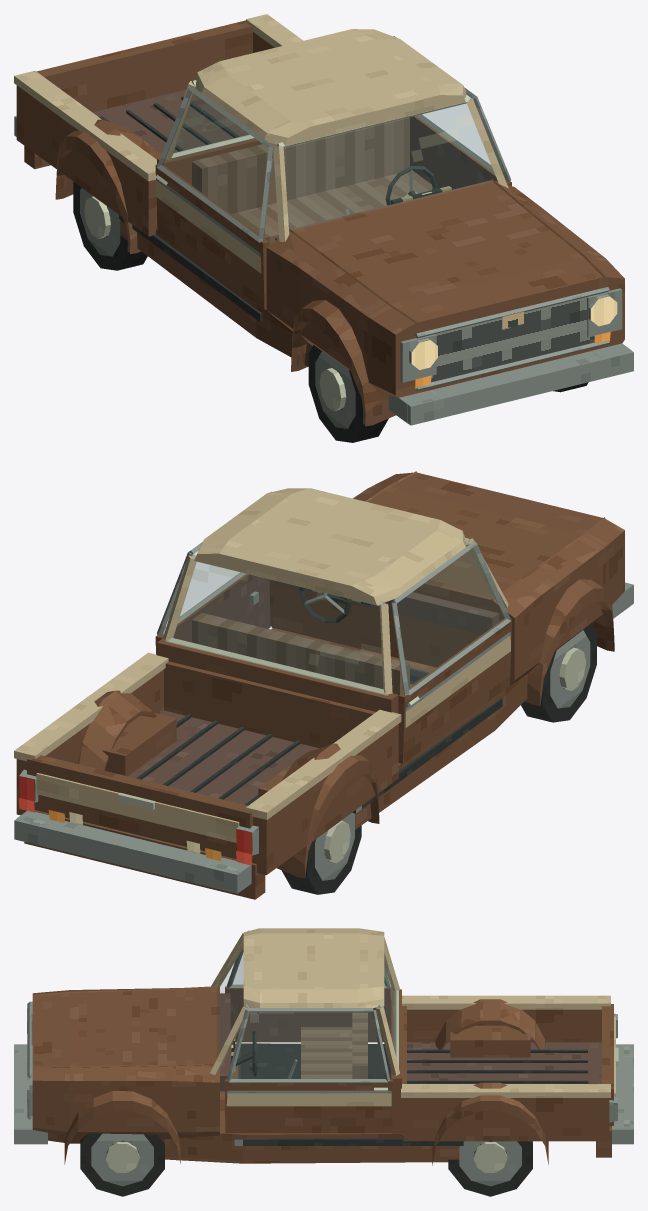
The model's file is tallmere-1972.glb.
3 views of the same model, one above another, from view 1: azimuth 30°, elevation 25°; view 2: azimuth 150°, elevation 25°; view 3: azimuth 270°, elevation 25° (orthographic). The views are drawn at different scales.
Parts seen in each view (by area): view 1: body, Hood opening panel, Pressed tailgate, Hinged side glass.001, Shaped hinged outer door.001, Padded inside door panel, Tyre tread and scalloped shoulders.001, Chrome-capped two-tone insert.002, Wheel side annulus.001, Tyre tread and scalloped shoulders.003, Hinged side glass, Wheel side annulus.003 (+5 smaller); view 2: body, Hood opening panel, Hinged side glass.001, Pressed tailgate, Shaped hinged outer door.001, Embossed tailgate stripe, Padded inside door panel, Tyre tread and scalloped shoulders.001, Chrome-capped two-tone insert.002, Tyre tread and scalloped shoulders.003, Wheel side annulus.001, Wheel side annulus.003 (+4 smaller); view 3: body, Hood opening panel, Hinged side glass, Shaped hinged outer door, Padded inside door panel.001, Chrome-capped two-tone insert, Wheel side annulus, Tyre tread and scalloped shoulders, Wheel side annulus.002, Tyre tread and scalloped shoulders.002, Pressed tailgate, Pressed wheel hub (+6 smaller).
Part boxes in pixels (<box>): body: <box>14,14,633,426</box>; Hood opening panel: <box>290,180,603,322</box>; Pressed tailgate: <box>36,20,252,112</box>; Hinged side glass.001: <box>162,93,267,235</box>; Shaped hinged outer door.001: <box>155,165,264,309</box>; Padded inside door panel: <box>409,116,497,189</box>; Tyre tread and scalloped shoulders.001: <box>308,345,388,442</box>; Chrome-capped two-tone insert.002: <box>156,181,261,273</box>; Wheel side annulus.001: <box>315,351,355,428</box>; Tyre tread and scalloped shoulders.003: <box>73,181,147,270</box>; Hinged side glass: <box>422,96,490,164</box>; Wheel side annulus.003: <box>80,188,120,256</box>; body: <box>14,472,633,899</box>; Hood opening panel: <box>367,472,602,599</box>; Hinged side glass.001: <box>397,548,504,689</box>; Pressed tailgate: <box>27,755,252,859</box>; Shaped hinged outer door.001: <box>403,619,511,763</box>; Embossed tailgate stripe: <box>36,773,239,842</box>; Padded inside door panel: <box>161,574,270,642</box>; Tyre tread and scalloped shoulders.001: <box>521,623,596,722</box>; Chrome-capped two-tone insert.002: <box>405,635,510,727</box>; Tyre tread and scalloped shoulders.003: <box>281,825,361,894</box>; Wheel side annulus.001: <box>550,630,590,708</box>; Wheel side annulus.003: <box>315,812,354,880</box>; body: <box>14,928,633,1165</box>; Hood opening panel: <box>32,987,219,1066</box>; Hinged side glass: <box>233,1012,384,1078</box>; Shaped hinged outer door: <box>225,1081,392,1133</box>; Padded inside door panel.001: <box>225,988,391,1042</box>; Chrome-capped two-tone insert: <box>226,1093,391,1106</box>; Wheel side annulus: <box>91,1133,153,1186</box>; Tyre tread and scalloped shoulders: <box>80,1133,164,1196</box>; Wheel side annulus.002: <box>459,1141,521,1186</box>; Tyre tread and scalloped shoulders.002: <box>448,1141,532,1196</box>; Pressed tailgate: <box>602,1004,613,1125</box>; Pressed wheel hub: <box>105,1142,139,1172</box>.
Size of the model in its own units: 2.13 by 1.85 by 5.44.
Materials: 6 (6 with a texture image).
